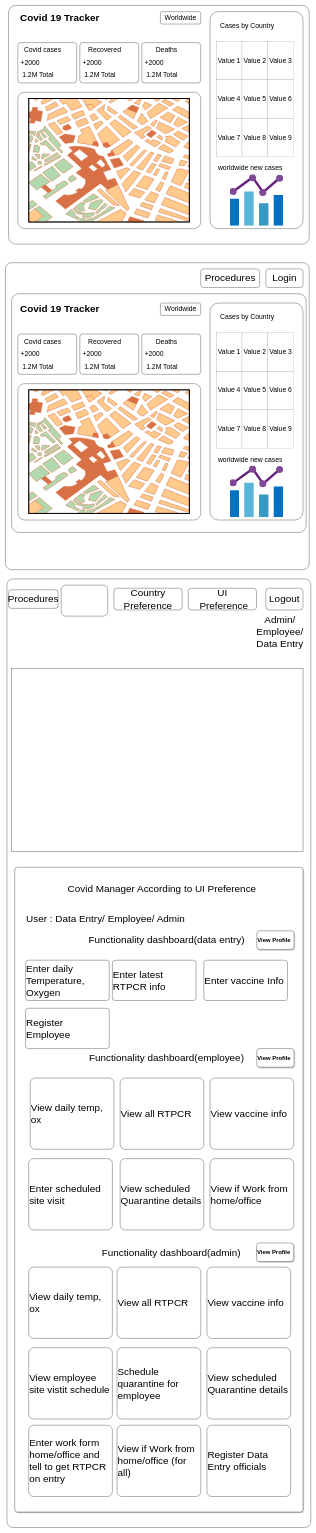
The diagram is 316 pixels wide and 1533 high, and some of its shapes have lost their labels. The centre of each missing label's shape, as x and y in pixels:
Covid Data Manager: pixel 84 600
Covid tracker according to UI preference: pixel 157 760
